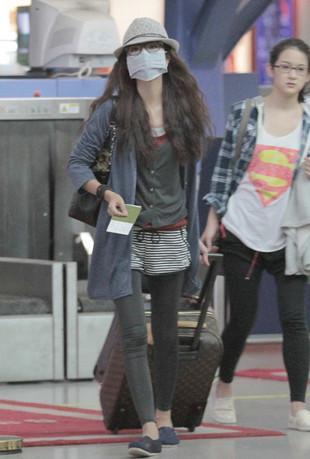NONE: (276, 60, 309, 94)
OK: (127, 41, 167, 85)
